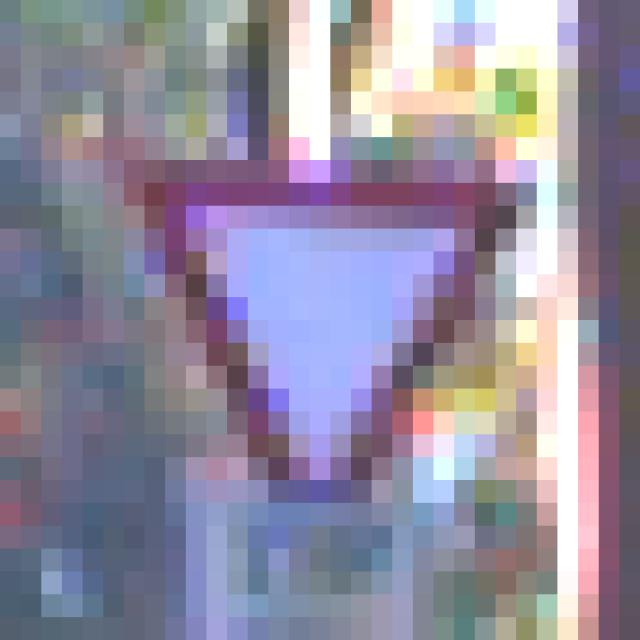Give Way: (125, 138, 538, 527)
